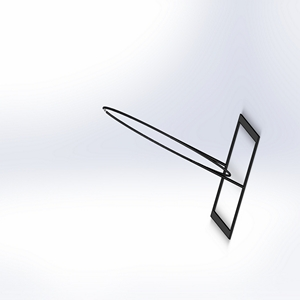circle: (101, 102, 262, 240)
